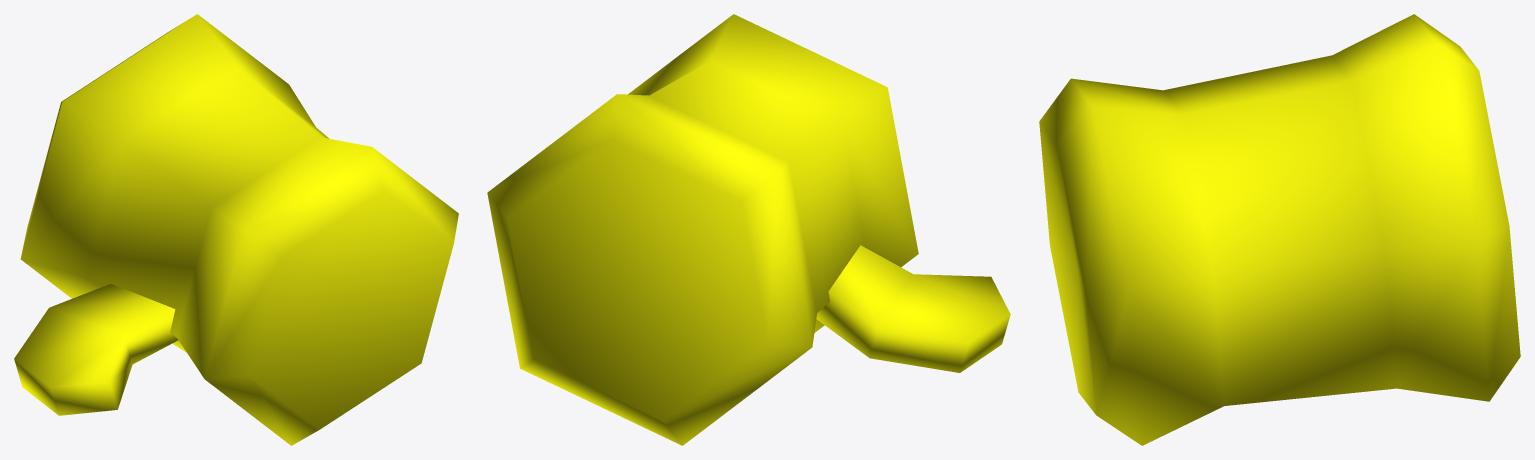
The model's file is bone_whale_piece_ver04.glb.
3 renders of one model, left to right at view 1: azimuth 30°, elevation 25°; view 2: azimuth 150°, elevation 25°; view 3: azimuth 270°, elevation 25°, orthographic. The views are drawn at different scales.
Parts seen in each view (by area): view 1: bone_whale_piece_ver04; view 2: bone_whale_piece_ver04; view 3: bone_whale_piece_ver04.
Boxes of the visible parts, x1=… form: bone_whale_piece_ver04: x1=14, y1=14, x2=458, y2=445; bone_whale_piece_ver04: x1=487, y1=14, x2=1010, y2=445; bone_whale_piece_ver04: x1=1039, y1=14, x2=1520, y2=445.
Bounding box in the file's own units: 2.71 × 2.15 × 2.37.
1 material, 1 textured.
